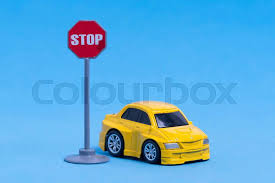stop sign: (65, 19, 107, 59)
